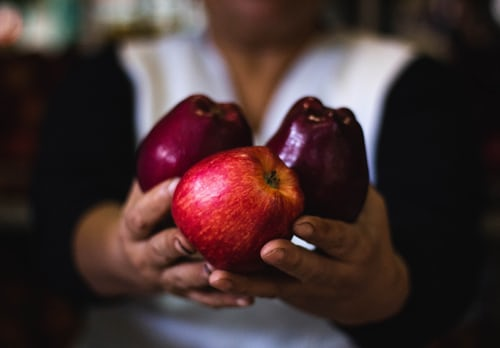apple: (169, 146, 307, 274), (258, 97, 370, 224), (133, 94, 249, 193)
